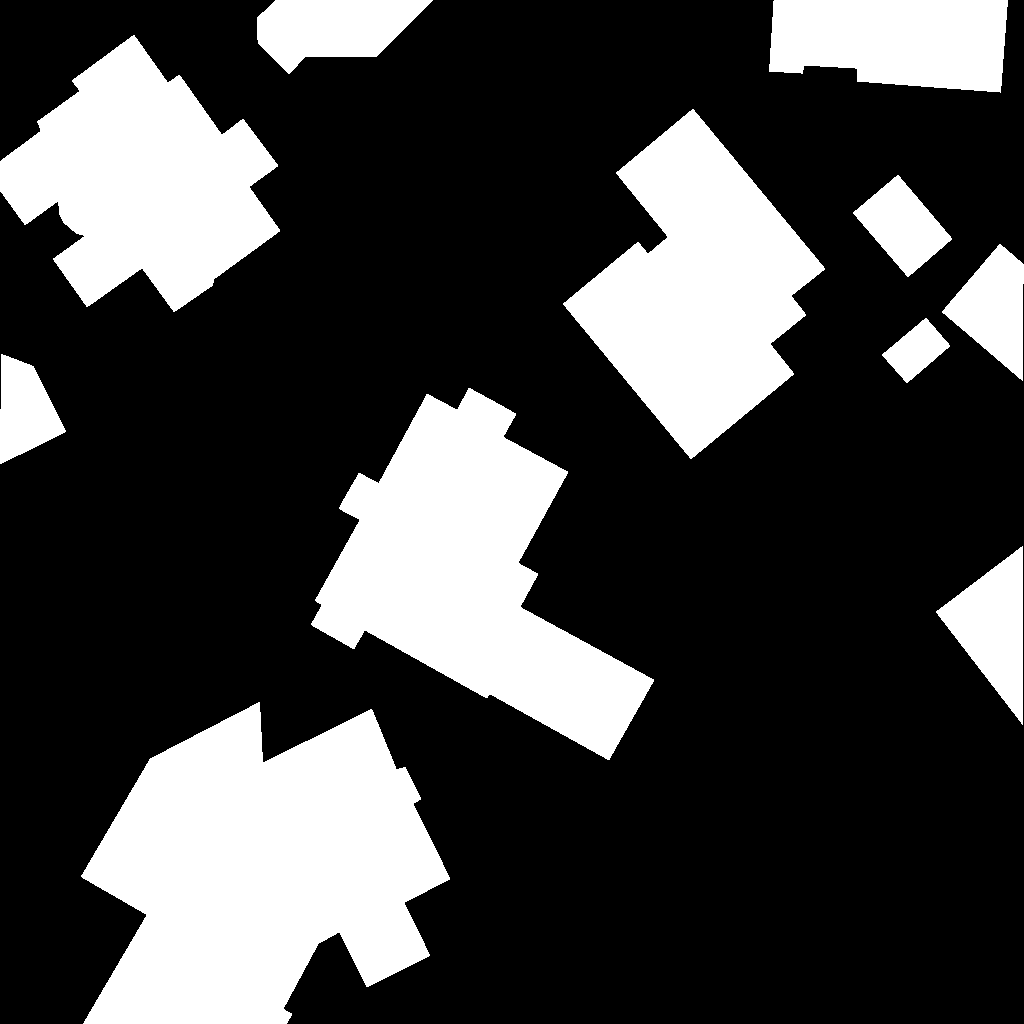building: (311, 388, 655, 761), (81, 702, 451, 1024), (563, 109, 826, 460), (0, 35, 281, 313), (769, 0, 1009, 93), (936, 546, 1024, 726), (257, 0, 434, 75), (942, 244, 1024, 382), (853, 175, 953, 278), (0, 354, 67, 465), (882, 318, 951, 384)
